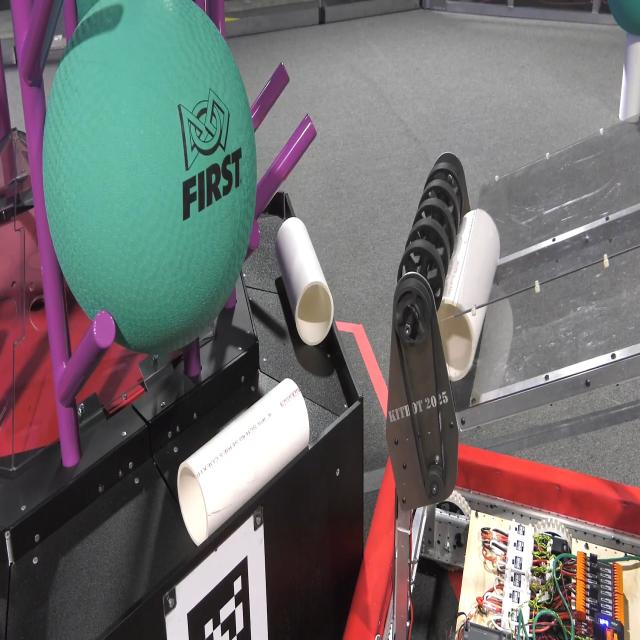Coral: (176, 376, 310, 547), (436, 206, 500, 382), (274, 215, 334, 346)
